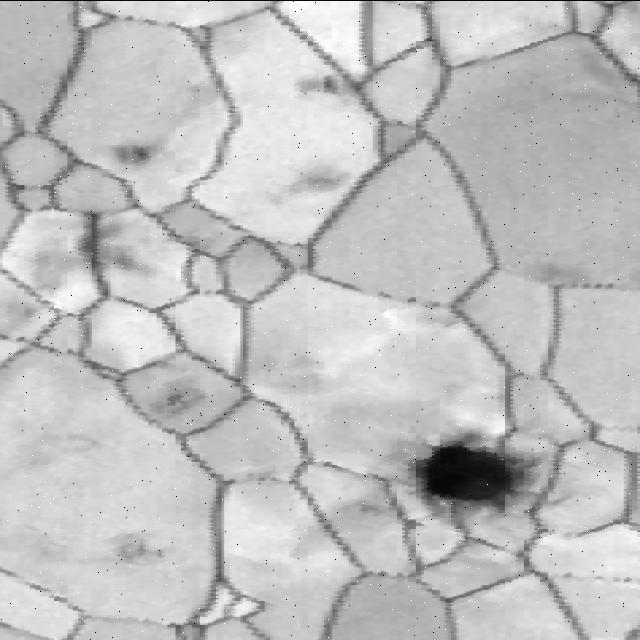good_void: (399, 432, 541, 516), (255, 151, 365, 220), (87, 513, 183, 582), (65, 217, 163, 282), (142, 377, 217, 425), (104, 136, 172, 179), (292, 72, 360, 110), (339, 491, 386, 523)
